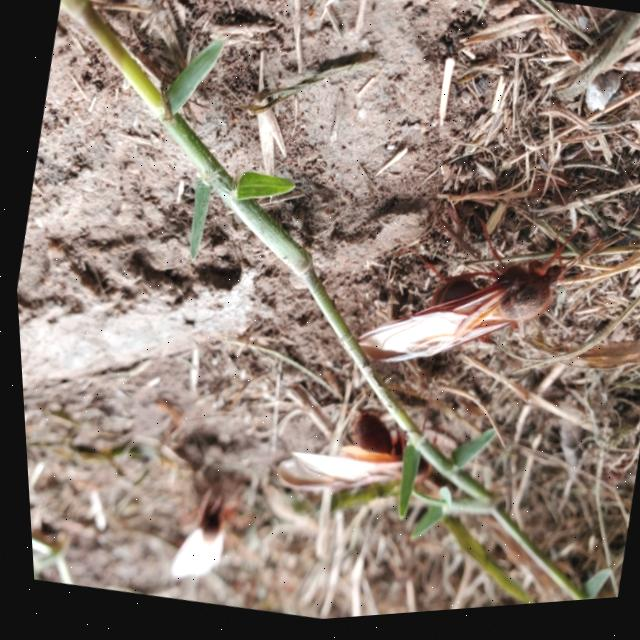Alive-Male-Alate: (341, 184, 609, 412)
